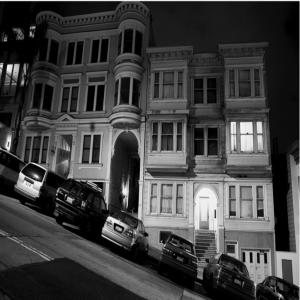Vehicle-registration-plate: (116, 226, 123, 234), (234, 280, 242, 285), (27, 182, 32, 187)
